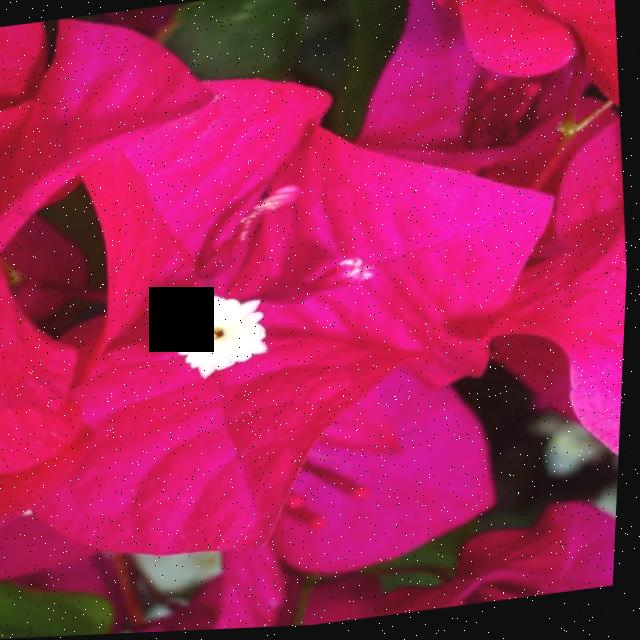bougainvillea: (0, 0, 617, 640)
